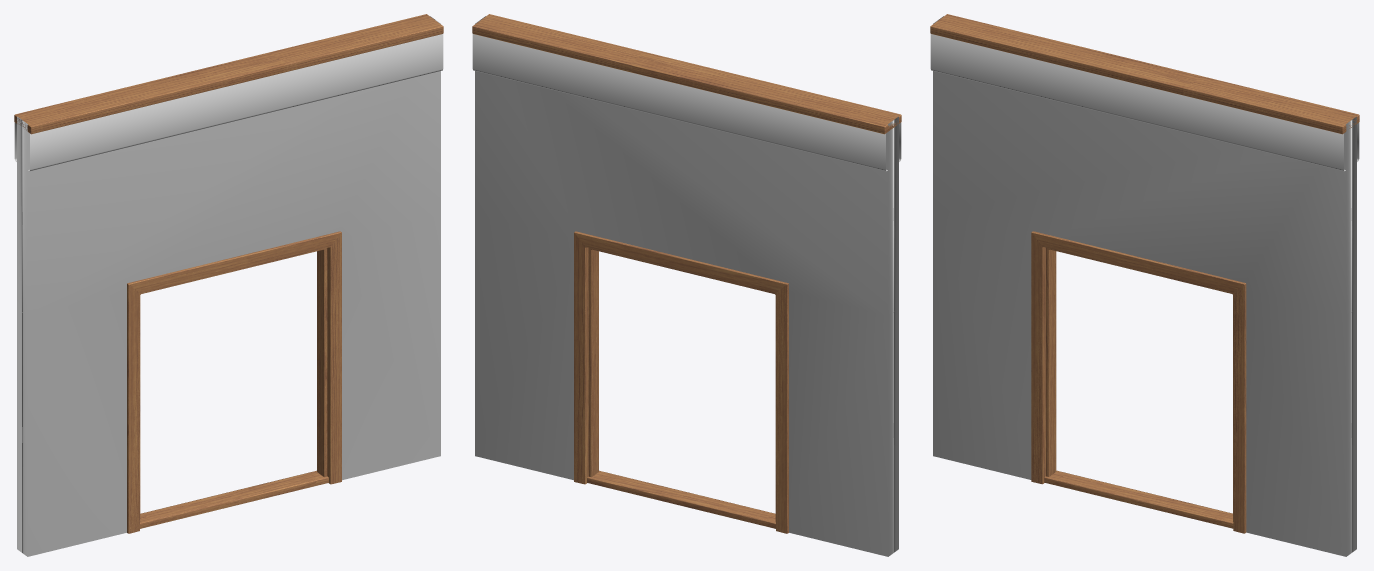
Rendered from SM_wall_door_01.fbx.
The picture shows the model from 3 angles, left to right: view 1: azimuth 30°, elevation 25°; view 2: azimuth 150°, elevation 25°; view 3: azimuth 330°, elevation 25°; orthographic projection.
Visible parts, largest first — view 1: Wall_door_class007; view 2: Wall_door_class007; view 3: Wall_door_class007.
Boxes of the visible parts, x1=… form: Wall_door_class007: x1=14, y1=14, x2=443, y2=556; Wall_door_class007: x1=472, y1=14, x2=901, y2=556; Wall_door_class007: x1=930, y1=14, x2=1359, y2=556.
Bounding box in the file's own units: 157 × 158 × 11.32.
